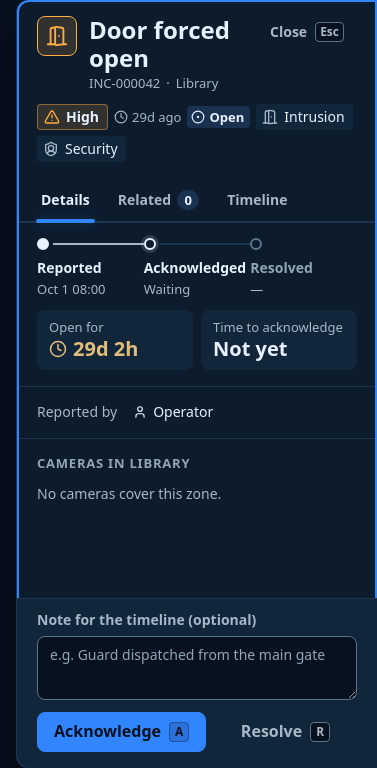
Test case: IncidentDetail › tabs › gives the Details back as they were after another tab
The width and height of the screenshot is (377, 768).
Click the tab "Timeline".
click(257, 200)  # box top-left (215, 178), bottom-right (300, 222)
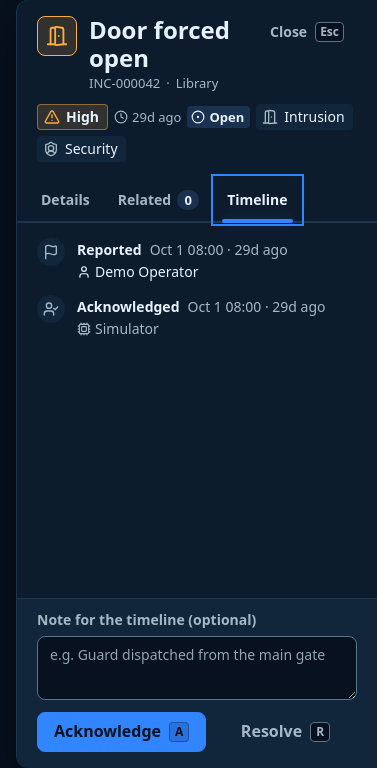
Now the text "Reported by" is gone
Click the tab "Details".
click(65, 200)  # box top-left (29, 178), bottom-right (102, 222)
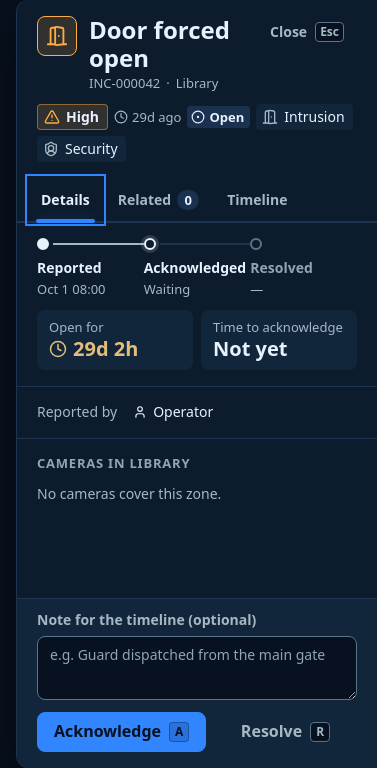
Now the text "Reported by" is shown, box top-left (37, 402), bottom-right (117, 422)
Now the heading "Cameras in Library" is shown, box top-left (37, 454), bottom-right (190, 472)
